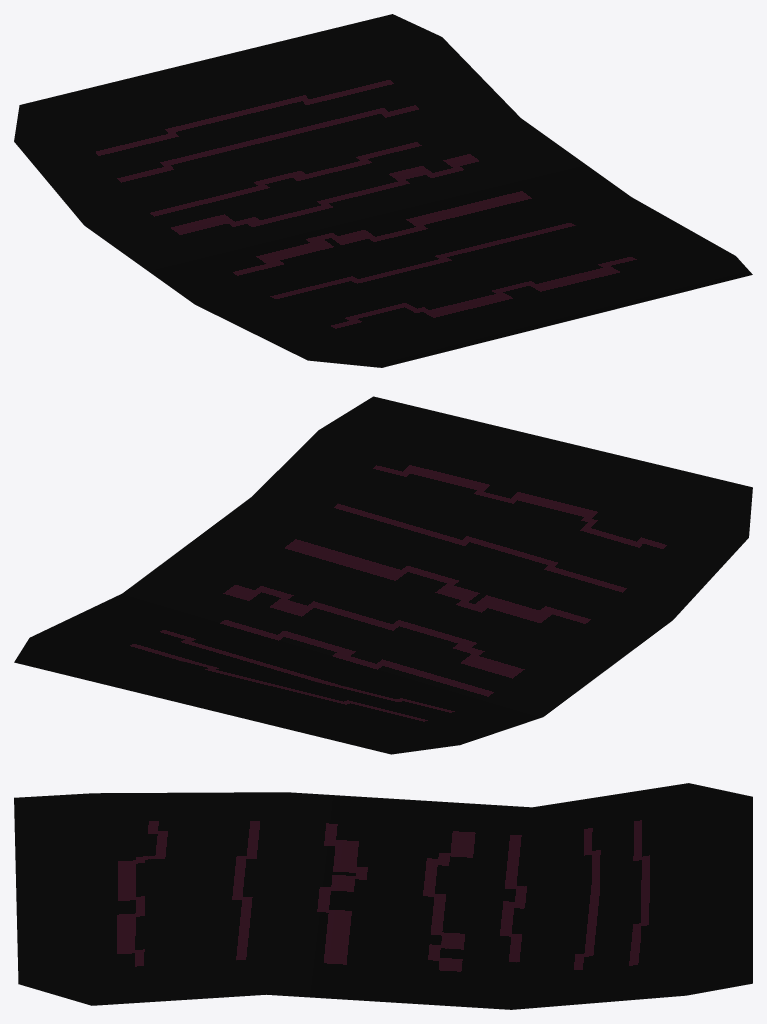
File: hoja.glb
The picture shows the model from 3 angles, top to bottom: view 1: azimuth 30°, elevation 25°; view 2: azimuth 150°, elevation 25°; view 3: azimuth 270°, elevation 25°; orthographic projection. The views are drawn at different scales.
Parts seen in each view (by area): view 1: Plano; view 2: Plano; view 3: Plano.
Boxes of the visible parts, bbox=[...] form: Plano: bbox=[14, 14, 752, 367]; Plano: bbox=[14, 396, 752, 754]; Plano: bbox=[14, 783, 752, 1009].
Bounding box in the file's own units: 0.3682 × 0.0251 × 0.515.
Materials: 1 (1 with a texture image).
